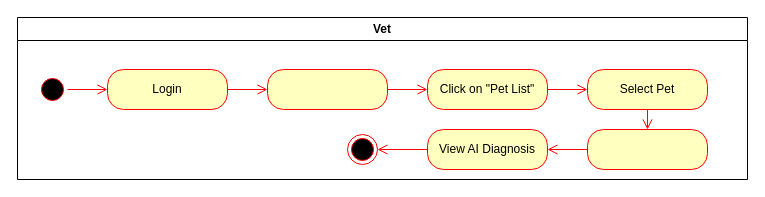
This 765x197 diagram has some shape labels left out. The shapes that lost their labels are listed below. From the top down, each one's centre as x and y in pixels, then its label:
At point (327, 89): "View Dashboard".
At point (647, 149): "AI Diagnosis".
